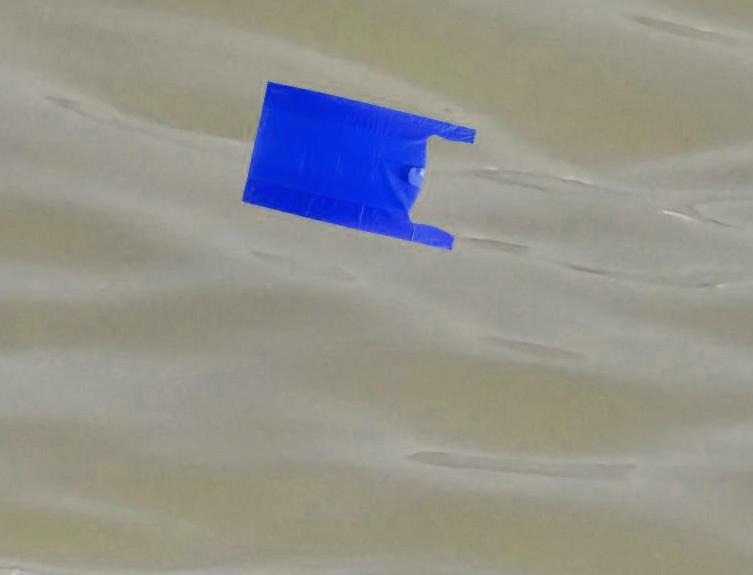Trash: (238, 73, 482, 256)
